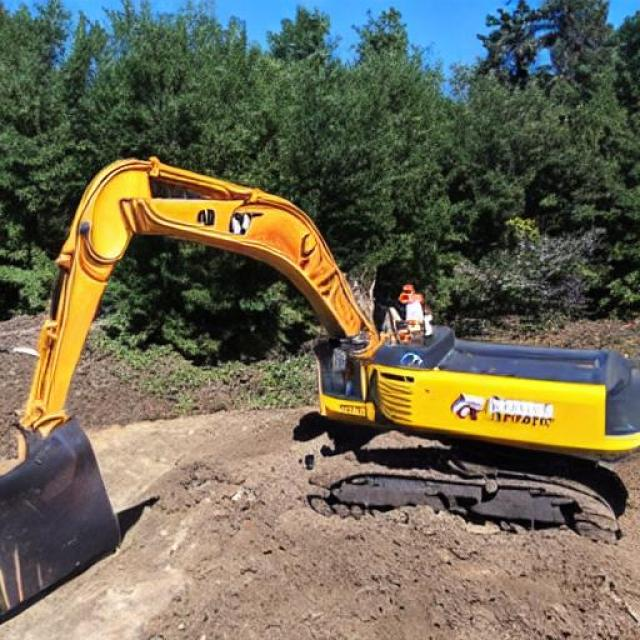excavator: (206, 126, 614, 445), (3, 172, 259, 353), (0, 149, 226, 323)
